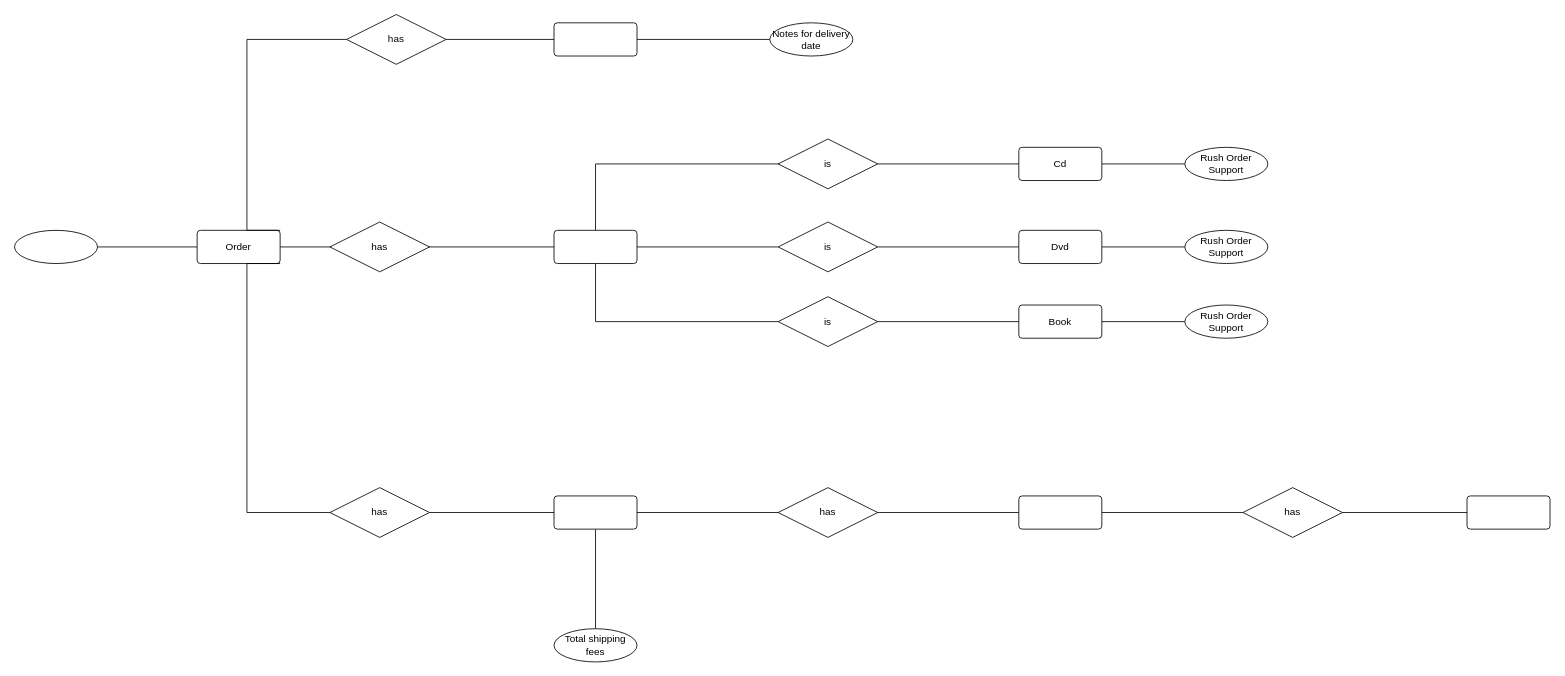
Some shapes in this 1565 by 676 pixel diagram are drawn without their labels. The shapes that lost their labels are listed below. From the top down, each one's centre as x and y in pixels, then its label:
At (595,39): "RushOrderInfo".
At (56,246): "Extra shipping fees".
At (595,246): "Media".
At (595,512): "Invoice".
At (1060,512): "Payment transaction".
At (1508,512): "Card".
